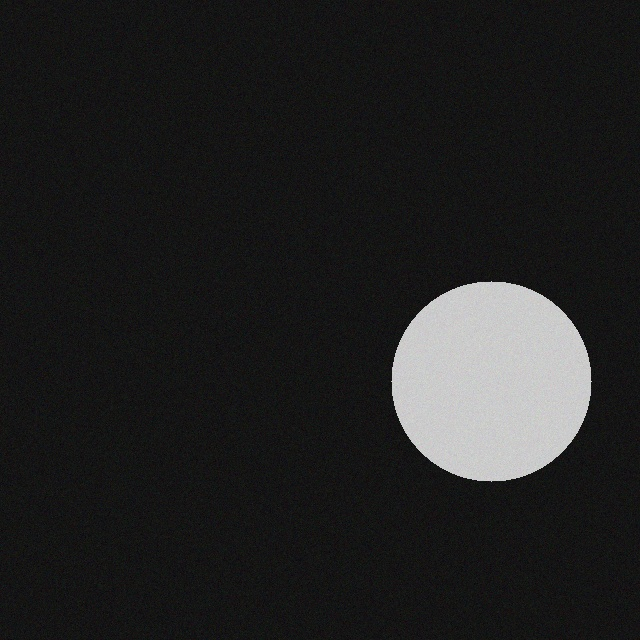circle: (401, 285, 601, 485)
